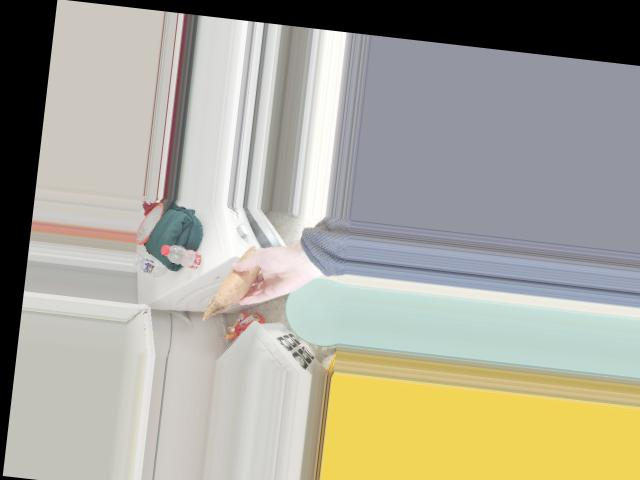sweet_potato: (216, 255, 260, 307)
